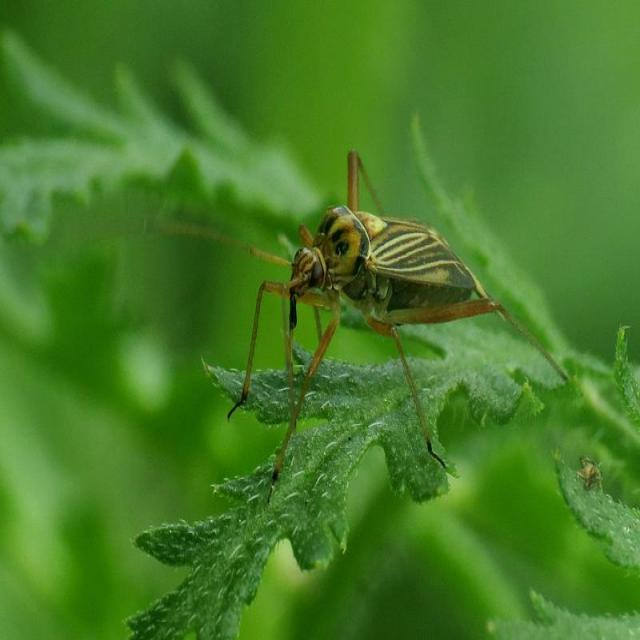Miridae-Adult-: (149, 110, 514, 477)
